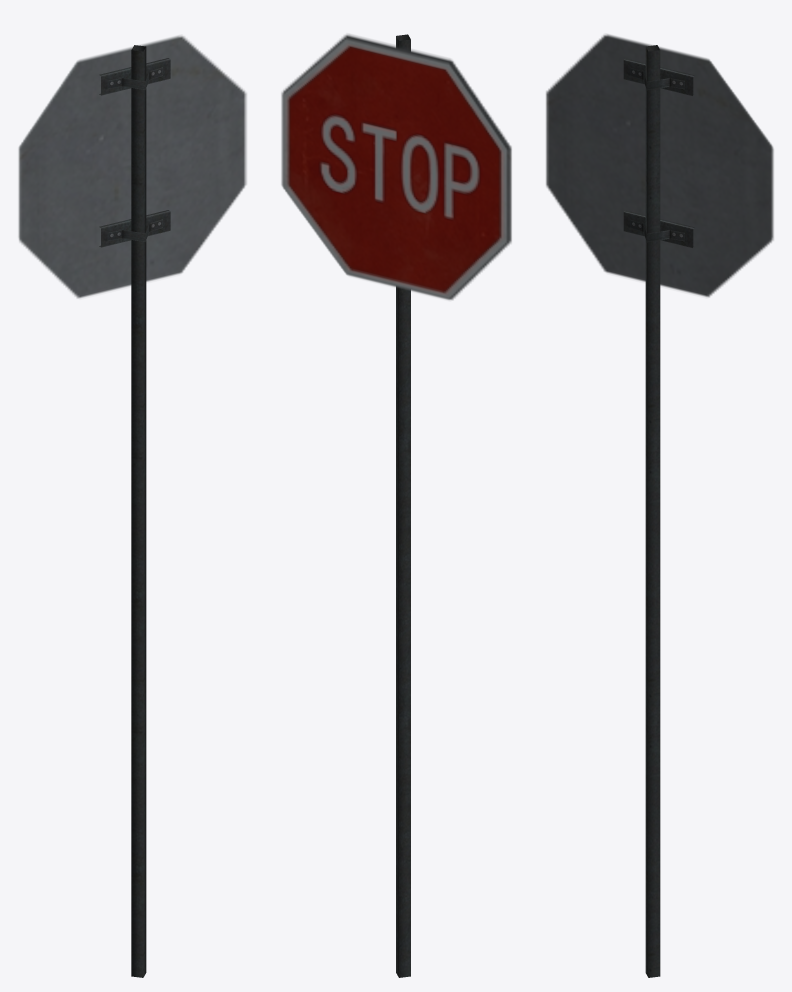
File: Stop.glb
3 renders of one model, left to right at view 1: azimuth 30°, elevation 25°; view 2: azimuth 150°, elevation 25°; view 3: azimuth 330°, elevation 25°, orthographic.
Visible parts, largest first — view 1: Stop__LOD1; view 2: Stop__LOD1; view 3: Stop__LOD1.
Boxes of the visible parts, left/top/right/bottom form: Stop__LOD1: left=18, top=35, right=246, bottom=977; Stop__LOD1: left=281, top=34, right=511, bottom=977; Stop__LOD1: left=546, top=34, right=773, bottom=977.
Size of the model in its own units: 0.7871 by 2.99 by 0.0865.
Materials: 1 (1 with a texture image).
